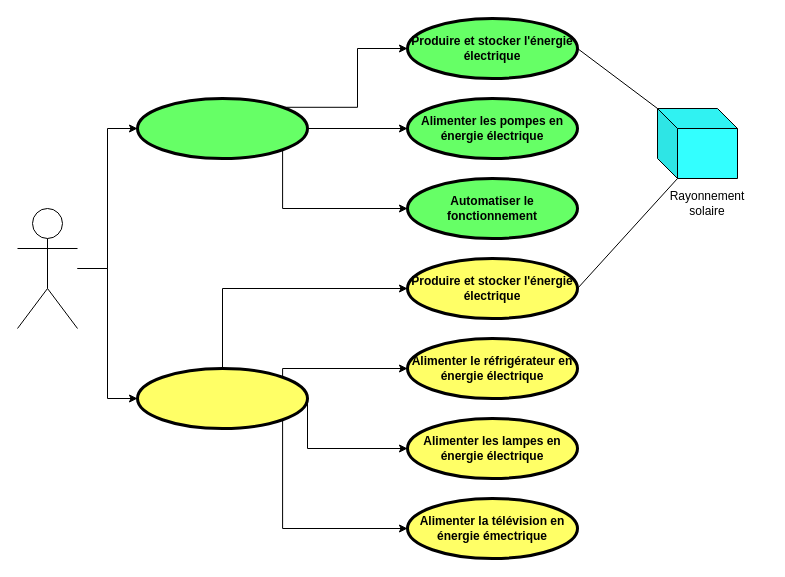
Some shapes in this 785 by 577 pixel diagram are drawn without their labels. Here are the shapes that lost their labels. From the top down, the centre of each, then its label:
At [222,128]: "Assurer l'alimentation eau pour 100 chèvres".
At [222,398]: "Améliorer le confort du berger".
